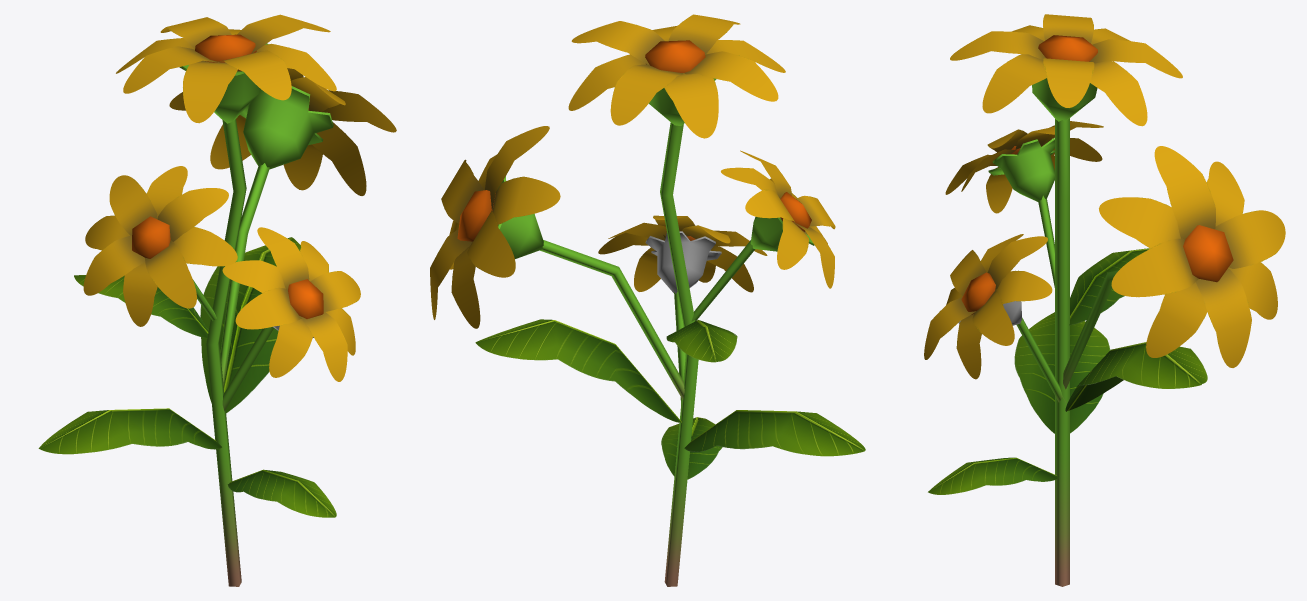
The model's file is GARDEN_Flower001.FBX.
3 renders of one model, left to right at view 1: azimuth 30°, elevation 25°; view 2: azimuth 150°, elevation 25°; view 3: azimuth 270°, elevation 25°, orthographic.
Visible parts, largest first — view 1: Line067, Plane636, Sphere030, Plane635, Plane662, Plane633, Plane656, Plane658, Line068, Plane655, Plane641, Plane630 (+28 smaller); view 2: Plane635, Line067, Plane636, Line068, Plane634, Plane631, Plane632, Plane644, Sphere032, Plane637, Plane643, Plane627 (+23 smaller); view 3: Line067, Plane636, Plane635, Plane639, Plane638, Plane642, Plane640, Plane641, Plane643, Plane662, Sphere033, Plane628 (+23 smaller).
Part boxes in pixels (x1,y1,x2,y2): Line067: [206, 119, 246, 586]; Plane636: [38, 408, 221, 454]; Sphere030: [240, 86, 333, 169]; Plane635: [200, 237, 300, 413]; Plane662: [227, 469, 336, 517]; Plane633: [183, 60, 237, 123]; Plane656: [145, 240, 196, 308]; Plane658: [157, 188, 228, 241]; Line068: [220, 163, 269, 386]; Plane655: [83, 235, 145, 295]; Plane641: [312, 122, 366, 195]; Plane630: [218, 50, 291, 100]; Plane635: [475, 319, 681, 422]; Line067: [660, 122, 698, 586]; Plane636: [684, 410, 865, 456]; Line068: [540, 240, 684, 399]; Plane634: [664, 73, 718, 138]; Plane631: [610, 64, 682, 125]; Plane632: [684, 51, 778, 101]; Plane644: [492, 176, 560, 224]; Sphere032: [645, 231, 721, 293]; Plane637: [666, 320, 737, 362]; Plane643: [467, 209, 515, 277]; Plane627: [571, 21, 664, 65]; Line067: [1055, 118, 1069, 586]; Plane636: [1014, 312, 1110, 433]; Plane635: [1065, 342, 1207, 411]; Plane639: [1111, 238, 1198, 297]; Plane638: [1154, 146, 1215, 238]; Plane642: [1196, 268, 1251, 367]; Plane640: [1099, 197, 1180, 248]; Plane641: [1146, 282, 1207, 357]; Plane643: [1215, 210, 1285, 268]; Plane662: [928, 457, 1058, 494]; Sphere033: [988, 138, 1054, 201]; Plane628: [982, 54, 1046, 113].
Bounding box in the file's own units: 24.84 × 20.55 × 32.98.
